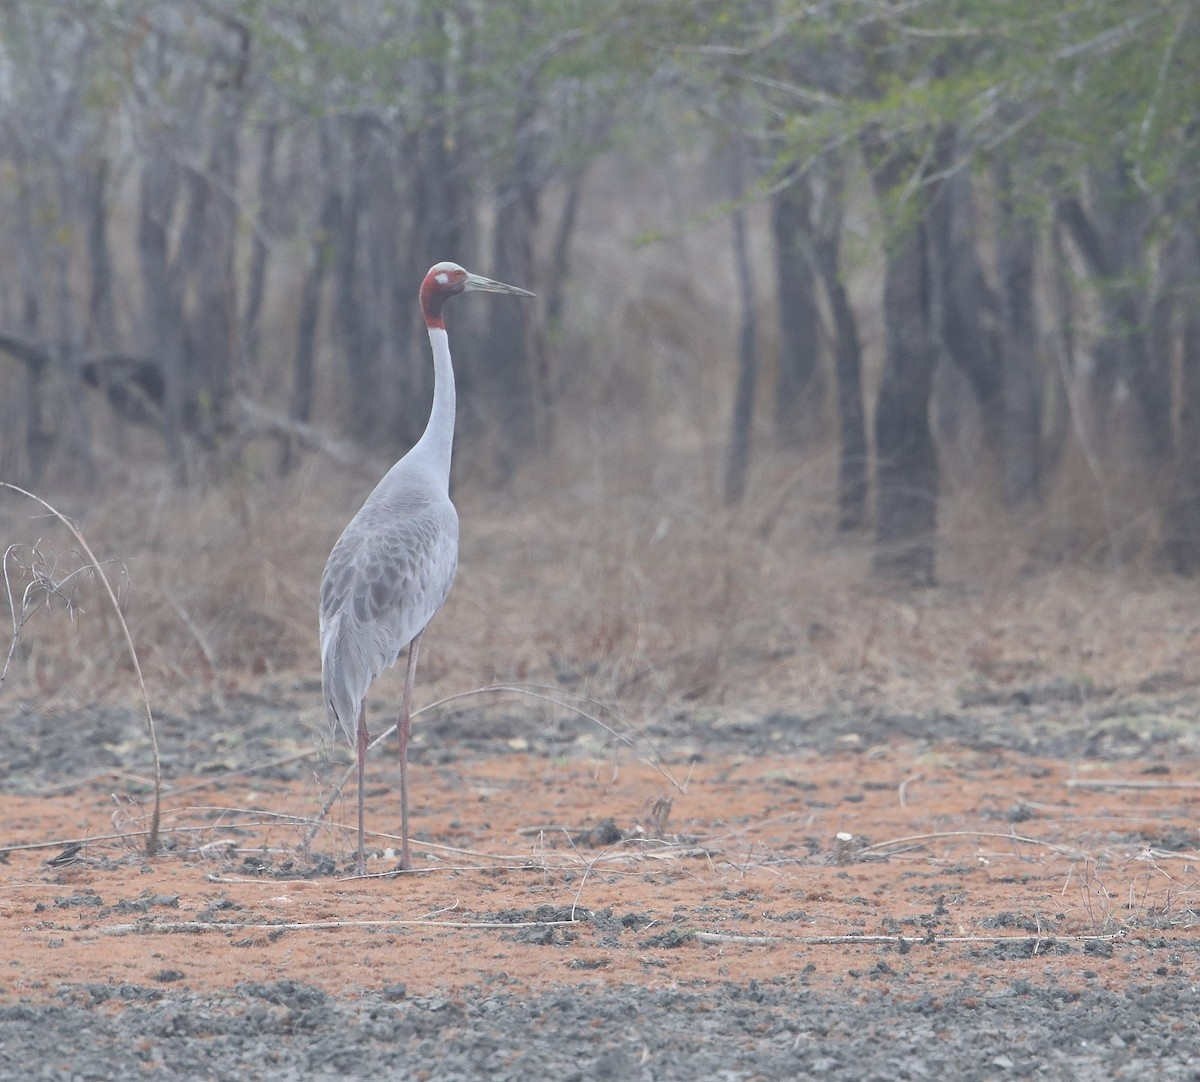crane: (301, 249, 545, 884)
